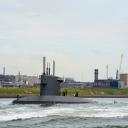submarine: (12, 57, 101, 105)
